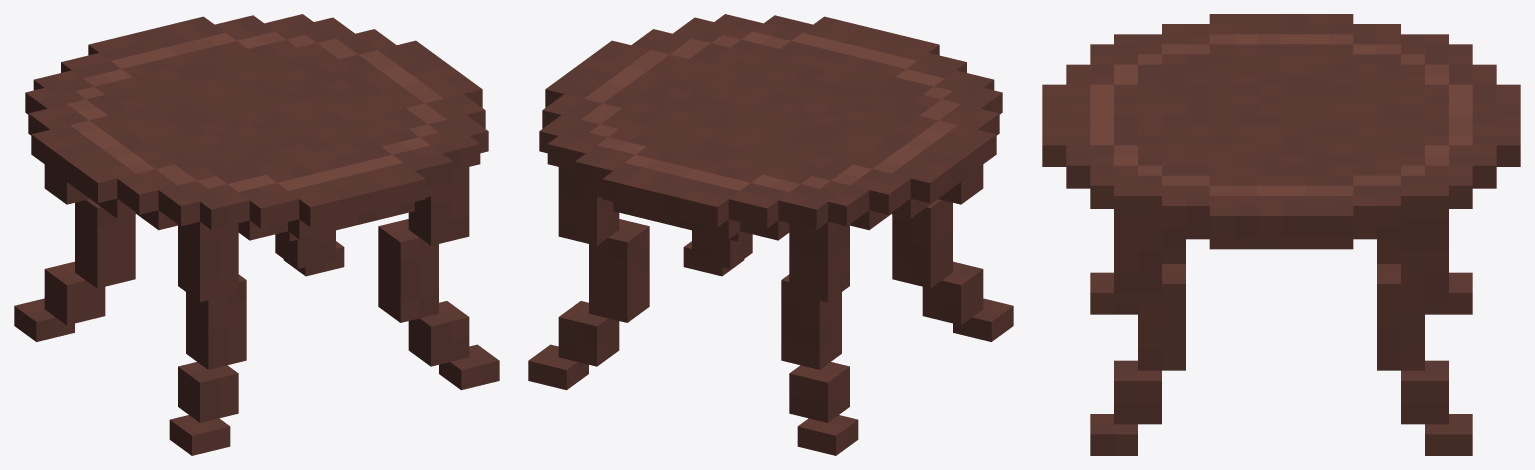
Rendered from table_3.obj.
3 renders of one model, left to right at view 1: azimuth 30°, elevation 25°; view 2: azimuth 150°, elevation 25°; view 3: azimuth 270°, elevation 25°, orthographic. The views are drawn at different scales.
Size of the model in its own units: 2 by 1.2 by 2.
1 material, 1 textured.
